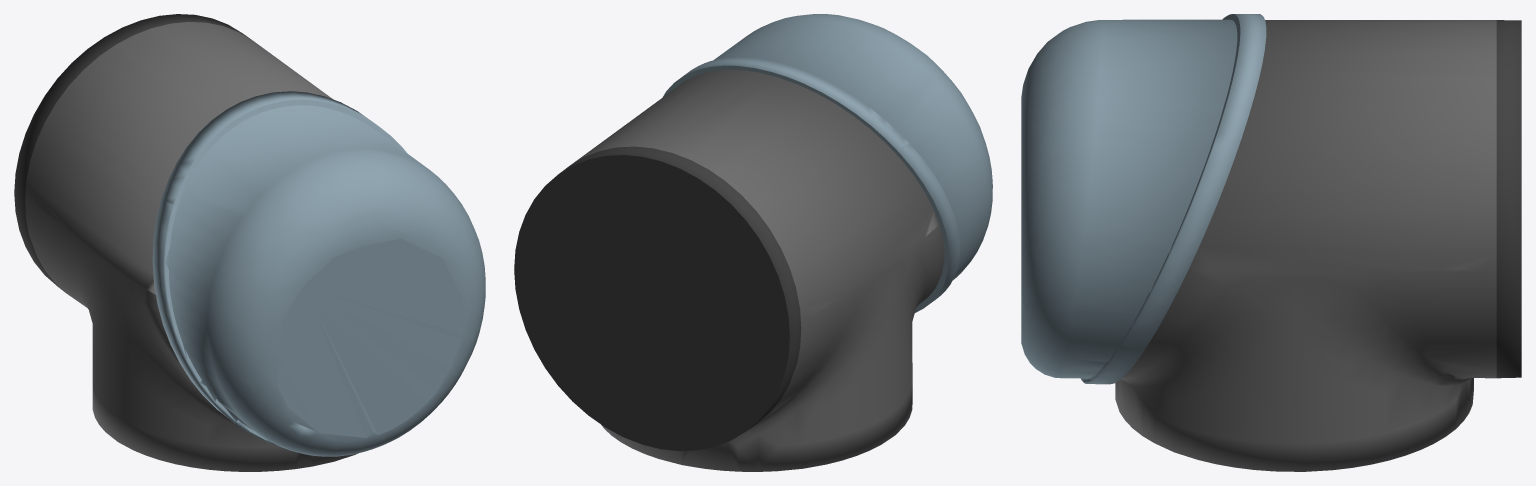
File: Wrist2.dae
3 views of the same model, side by side, from view 1: azimuth 30°, elevation 25°; view 2: azimuth 150°, elevation 25°; view 3: azimuth 270°, elevation 25° (orthographic). The views are drawn at different scales.
Visible parts, largest first — view 1: Actor1, Actor0; view 2: Actor0, Actor1; view 3: Actor0, Actor1.
Boxes of the visible parts, bbox=[...] form: Actor1: bbox=[152, 91, 485, 456]; Actor0: bbox=[14, 14, 357, 471]; Actor0: bbox=[514, 70, 944, 471]; Actor1: bbox=[663, 14, 992, 312]; Actor0: bbox=[1115, 20, 1521, 471]; Actor1: bbox=[1021, 14, 1266, 384].
Bounding box in the file's own units: 0.0775 × 0.1047 × 0.0842.
